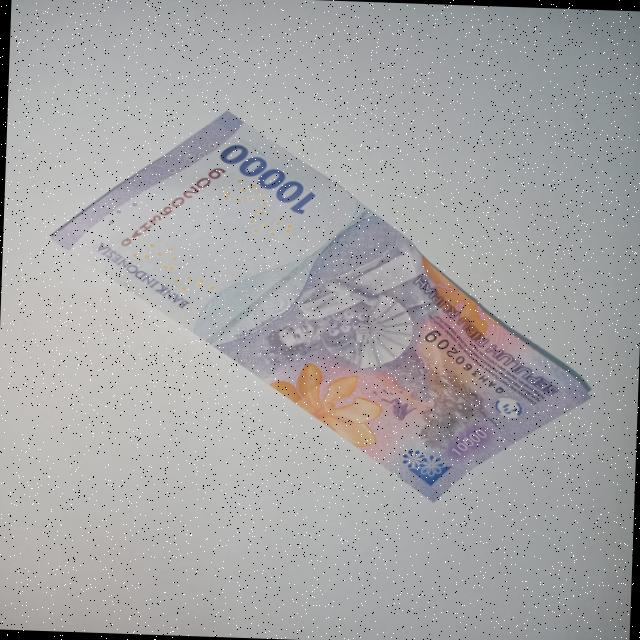10K: (34, 97, 610, 516)
